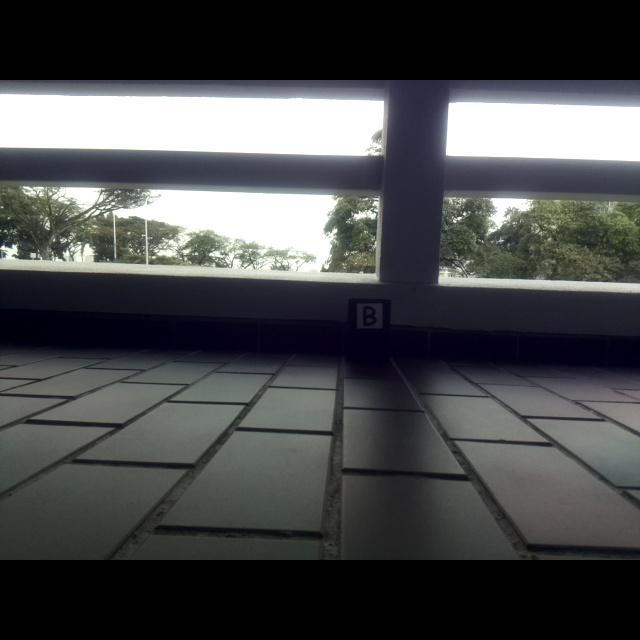B: (361, 305, 377, 327)
